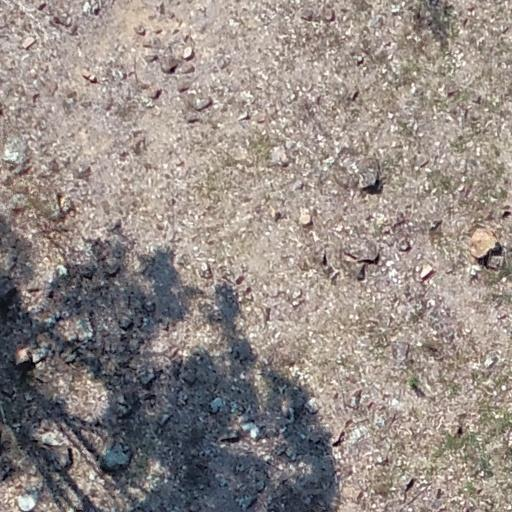stone: (333, 153, 383, 196), (137, 352, 176, 391), (55, 312, 95, 348), (110, 383, 146, 421), (343, 238, 381, 267), (40, 439, 74, 471), (470, 229, 502, 259), (225, 337, 254, 367), (14, 344, 48, 369), (301, 3, 337, 25), (319, 252, 341, 284), (100, 451, 128, 473), (335, 147, 359, 171), (7, 193, 32, 214), (268, 144, 290, 167), (100, 255, 123, 277), (51, 13, 75, 33), (188, 93, 213, 112), (129, 131, 148, 155), (226, 143, 250, 162), (391, 341, 410, 365), (55, 194, 75, 216), (176, 76, 198, 95), (138, 368, 157, 386), (198, 260, 214, 280), (145, 36, 165, 52), (75, 164, 92, 182), (180, 370, 198, 386), (158, 60, 179, 73), (488, 256, 505, 272), (268, 206, 283, 223), (210, 396, 224, 414), (299, 8, 316, 22), (107, 215, 121, 232), (345, 84, 359, 101), (178, 62, 196, 75), (239, 498, 256, 511), (399, 476, 414, 490), (499, 204, 512, 220), (185, 112, 202, 124), (147, 88, 162, 101), (428, 219, 442, 232), (21, 38, 36, 50), (237, 110, 251, 122), (290, 180, 304, 192), (420, 266, 434, 278), (120, 317, 132, 330), (300, 214, 313, 226), (248, 428, 260, 441), (183, 46, 194, 59), (398, 238, 409, 250), (134, 25, 146, 35), (88, 74, 98, 84), (152, 26, 164, 34), (258, 482, 266, 492), (82, 72, 90, 79)
